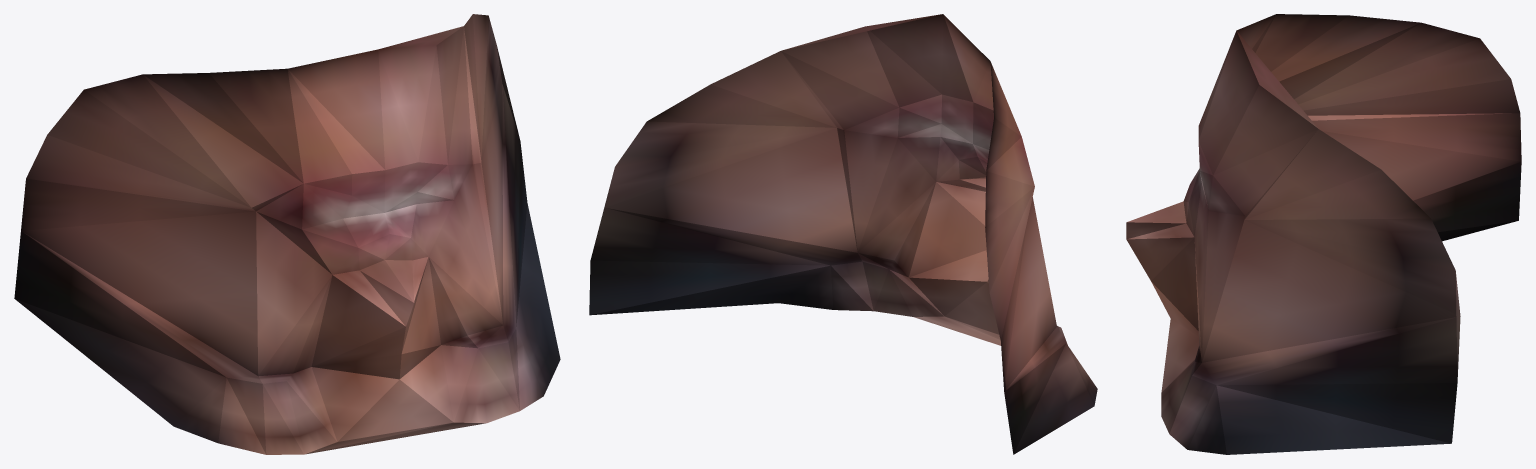
The model's file is fake_18075.obj.
3 renders of one model, left to right at view 1: azimuth 30°, elevation 25°; view 2: azimuth 150°, elevation 25°; view 3: azimuth 270°, elevation 25°, orthographic. The views are drawn at different scales.
Bounding box in the file's own units: 116 × 84 × 85.29.
